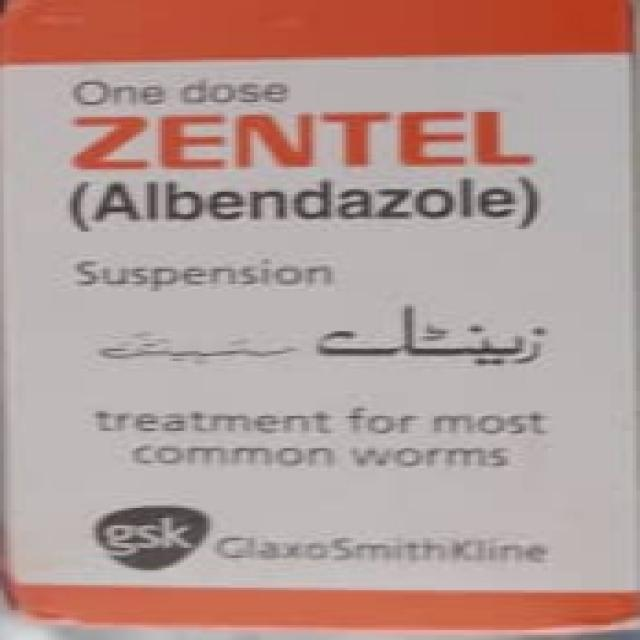drug-name: (68, 111, 536, 170)
